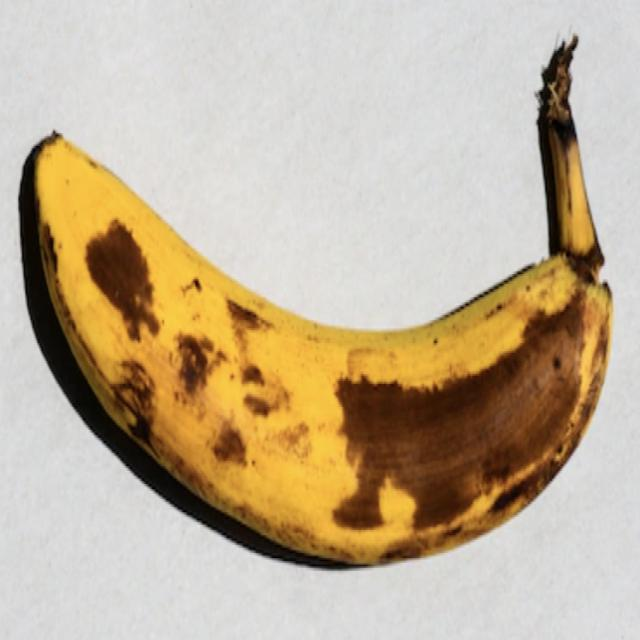rotten-banana: (22, 29, 615, 568)
